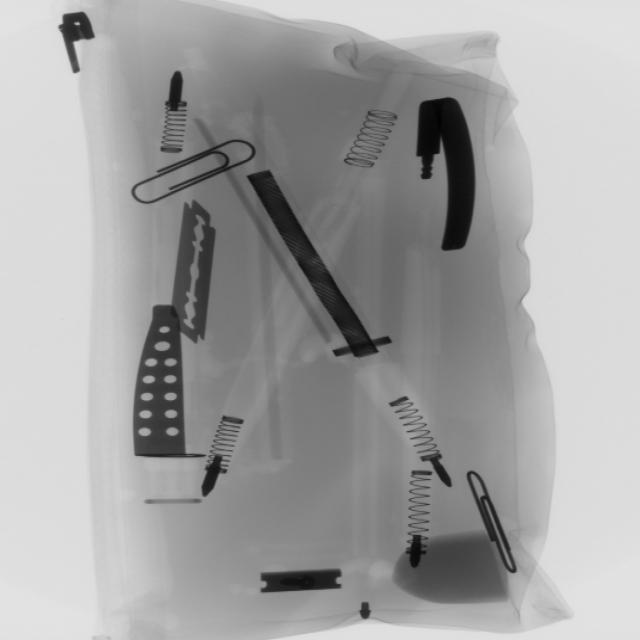BLADE: (163, 192, 224, 355)
